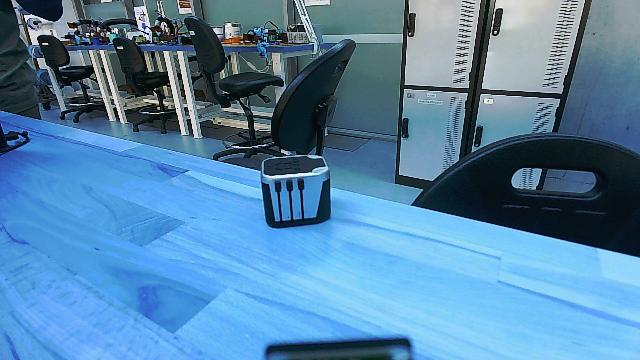adapter: (257, 152, 339, 228)
